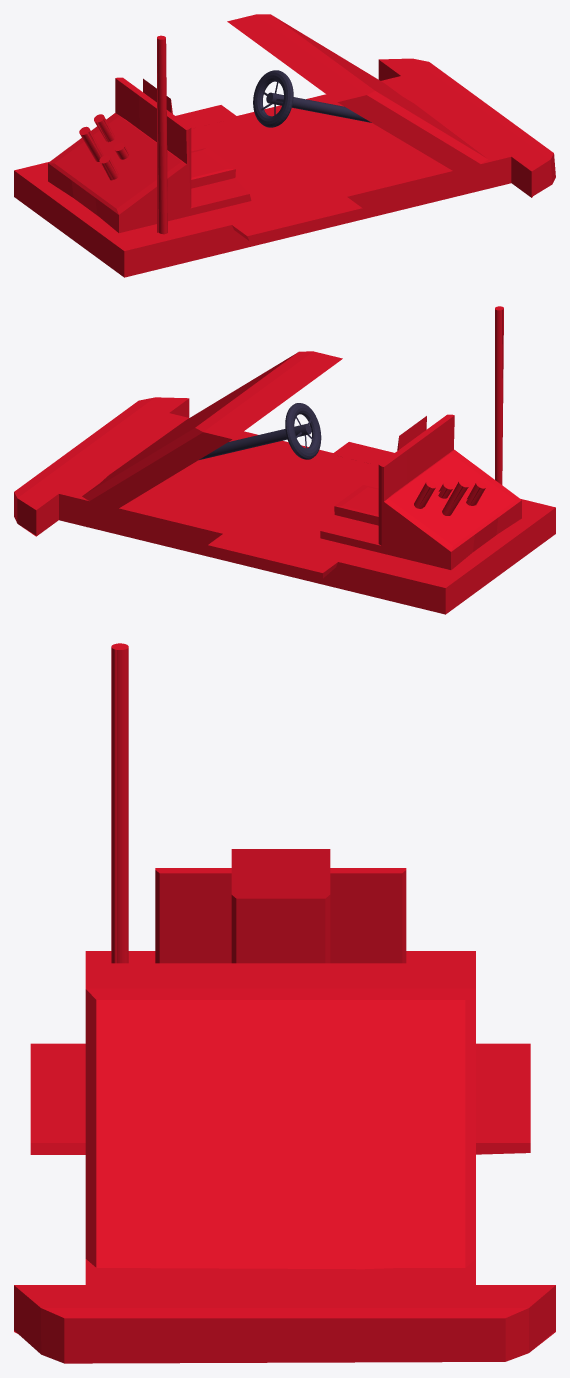
Rendered from kartSemRoda1.fbx.
3 views of the same model, one above another, from view 1: azimuth 30°, elevation 25°; view 2: azimuth 150°, elevation 25°; view 3: azimuth 270°, elevation 25° (orthographic). The views are drawn at different scales.
Parts seen in each view (by area): view 1: Torus; view 2: Torus; view 3: Torus.
Boxes of the visible parts, x1,y1,x2,y2 form: Torus: (14, 14, 555, 277); Torus: (14, 306, 555, 614); Torus: (14, 643, 555, 1363).
Size of the model in its own units: 445 by 222 by 278.
